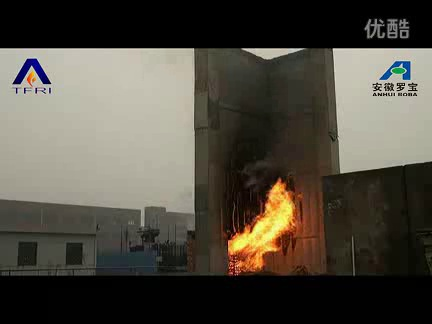fire: (226, 175, 301, 278)
